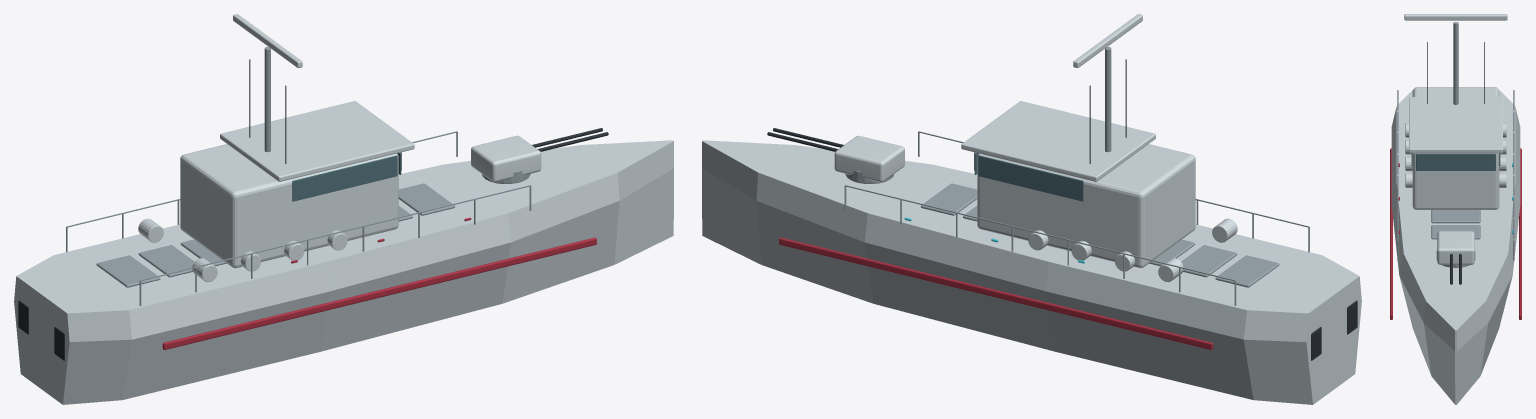
Rendered from CoastGuardCutter.fbx.
3 renders of one model, left to right at view 1: azimuth 30°, elevation 25°; view 2: azimuth 150°, elevation 25°; view 3: azimuth 270°, elevation 25°, orthographic. The views are drawn at different scales.
Visible parts, largest first — view 1: Chined seaworthy hull, Deck rail post, Navigation light, Gun shield, Bridge panoramic glazing, Radar array, Mast, Waterjet engine housing, Naval barrel; view 2: Chined seaworthy hull, Deck rail post, Navigation light, Gun shield, Bridge panoramic glazing, Radar array, Mast, Waterjet engine housing, Naval barrel; view 3: Chined seaworthy hull, Deck rail post, Bridge panoramic glazing, Gun shield, Navigation light, Radar array, Mast, Naval barrel.
Part boxes in pixels (x1=…): Chined seaworthy hull: x1=14, y1=101, x2=673, y2=404; Deck rail post: x1=66, y1=131, x2=531, y2=305; Navigation light: x1=162, y1=217, x2=596, y2=349; Gun shield: x1=471, y1=135, x2=541, y2=182; Bridge panoramic glazing: x1=292, y1=153, x2=401, y2=201; Radar array: x1=233, y1=14, x2=302, y2=68; Mast: x1=264, y1=47, x2=270, y2=152; Waterjet engine housing: x1=18, y1=300, x2=64, y2=360; Naval barrel: x1=532, y1=128, x2=608, y2=151; Chined seaworthy hull: x1=702, y1=101, x2=1361, y2=404; Deck rail post: x1=844, y1=131, x2=1309, y2=305; Navigation light: x1=779, y1=237, x2=1213, y2=349; Gun shield: x1=834, y1=135, x2=904, y2=182; Bridge panoramic glazing: x1=974, y1=153, x2=1083, y2=201; Radar array: x1=1073, y1=14, x2=1142, y2=68; Mast: x1=1105, y1=47, x2=1111, y2=152; Waterjet engine housing: x1=1311, y1=300, x2=1357, y2=360; Naval barrel: x1=767, y1=128, x2=843, y2=151; Chined seaworthy hull: x1=1391, y1=87, x2=1520, y2=404; Deck rail post: x1=1397, y1=90, x2=1514, y2=260; Bridge panoramic glazing: x1=1411, y1=153, x2=1500, y2=170; Gun shield: x1=1437, y1=231, x2=1474, y2=264; Navigation light: x1=1390, y1=148, x2=1521, y2=319; Radar array: x1=1404, y1=14, x2=1507, y2=20; Mast: x1=1453, y1=22, x2=1458, y2=104; Naval barrel: x1=1450, y1=253, x2=1461, y2=284.
Bounding box in the file's own units: 2860 × 1282 × 654.
